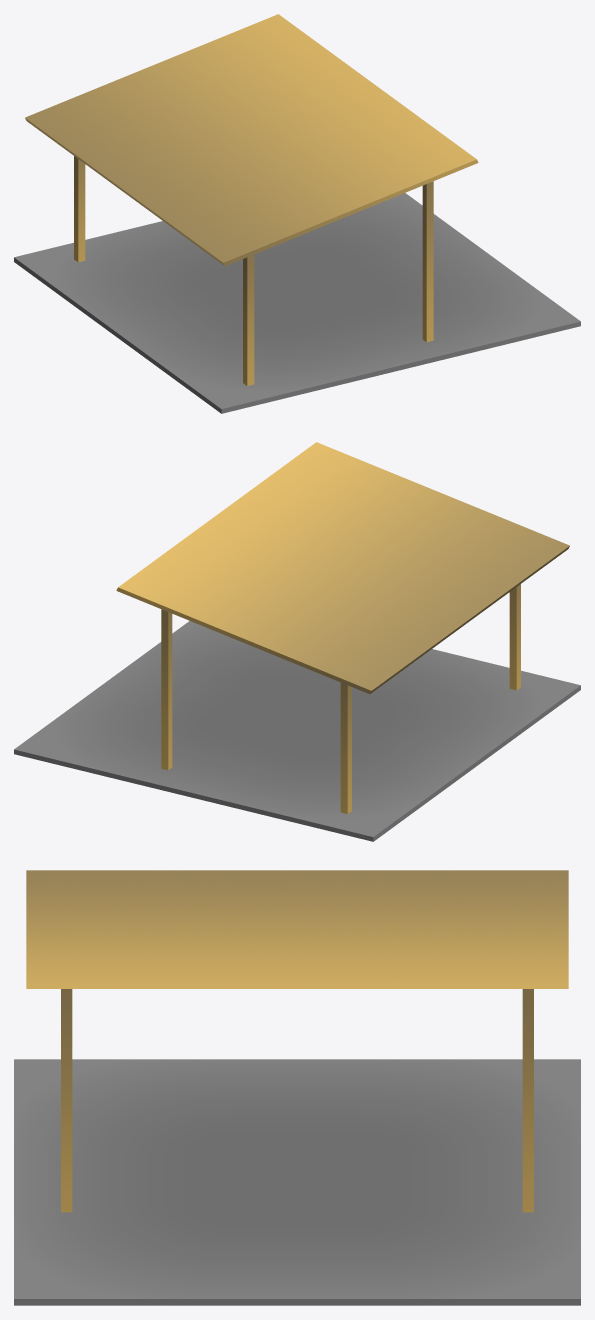
File: storage0.glb
3 renders of one model, top to bottom at view 1: azimuth 30°, elevation 25°; view 2: azimuth 150°, elevation 25°; view 3: azimuth 270°, elevation 25°, orthographic. The views are drawn at different scales.
Parts seen in each view (by area): view 1: Storage0; view 2: Storage0; view 3: Storage0.
Part boxes in pixels (box(x1,y1,x2,y2)): Storage0: box(14, 14, 580, 413); Storage0: box(14, 442, 580, 841); Storage0: box(14, 870, 580, 1305).
Bounding box in the file's own units: 4 × 2 × 4.
1 material, 1 textured.
